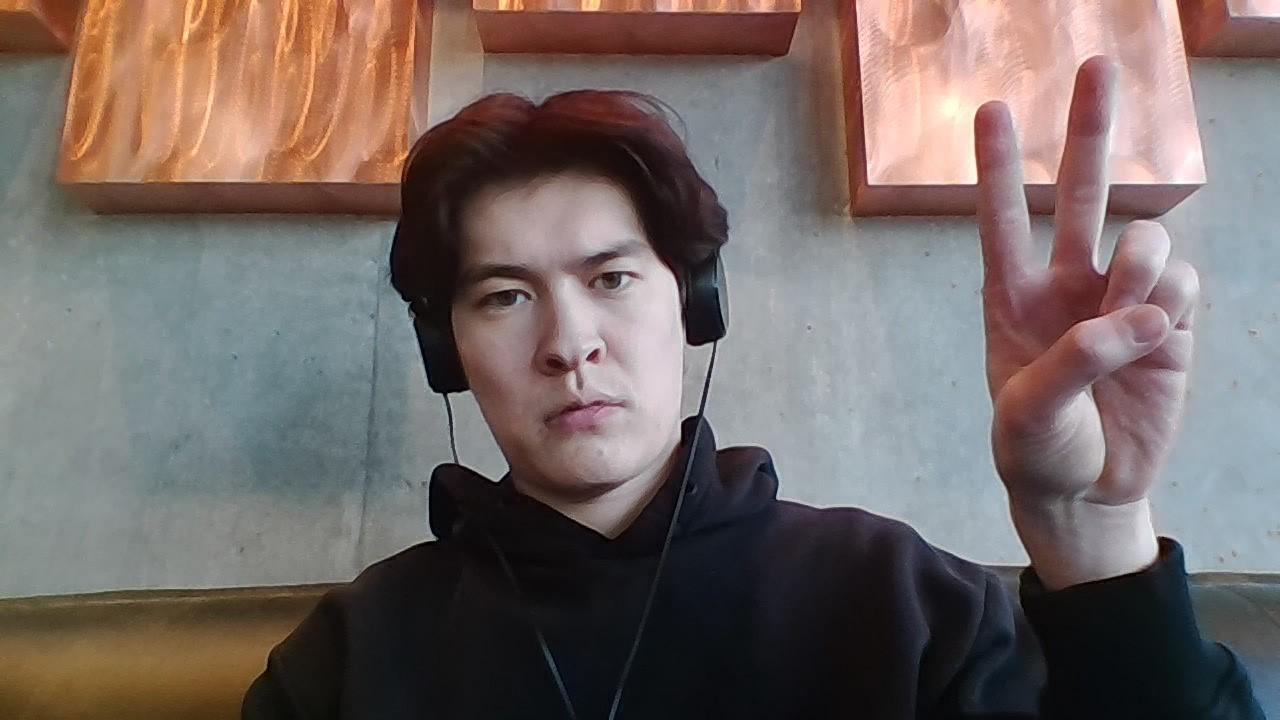peace: (973, 53, 1204, 507)
